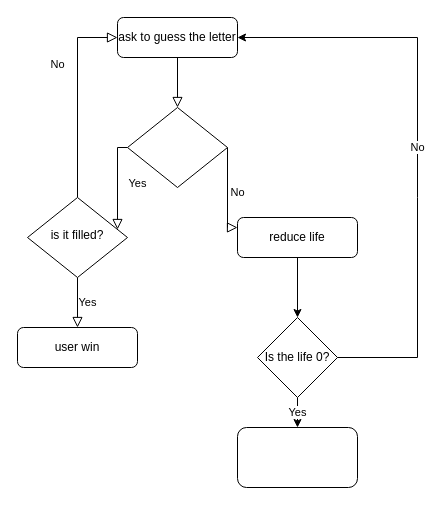
Image size: 443x505. Some labels were removed from this diagram. The centre of each missing label's shape, as x and y in pixels:
"is it the right letter?" belongs at (x=177, y=147).
"User lose" belongs at (x=297, y=457).
